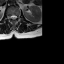CCS_normal: (12, 12, 15, 22)
LFS_stenosis: (17, 13, 19, 20)
LLS_normal: (15, 12, 17, 20)
RFS_normal: (8, 13, 10, 20)
RLS_normal: (10, 13, 12, 20)
